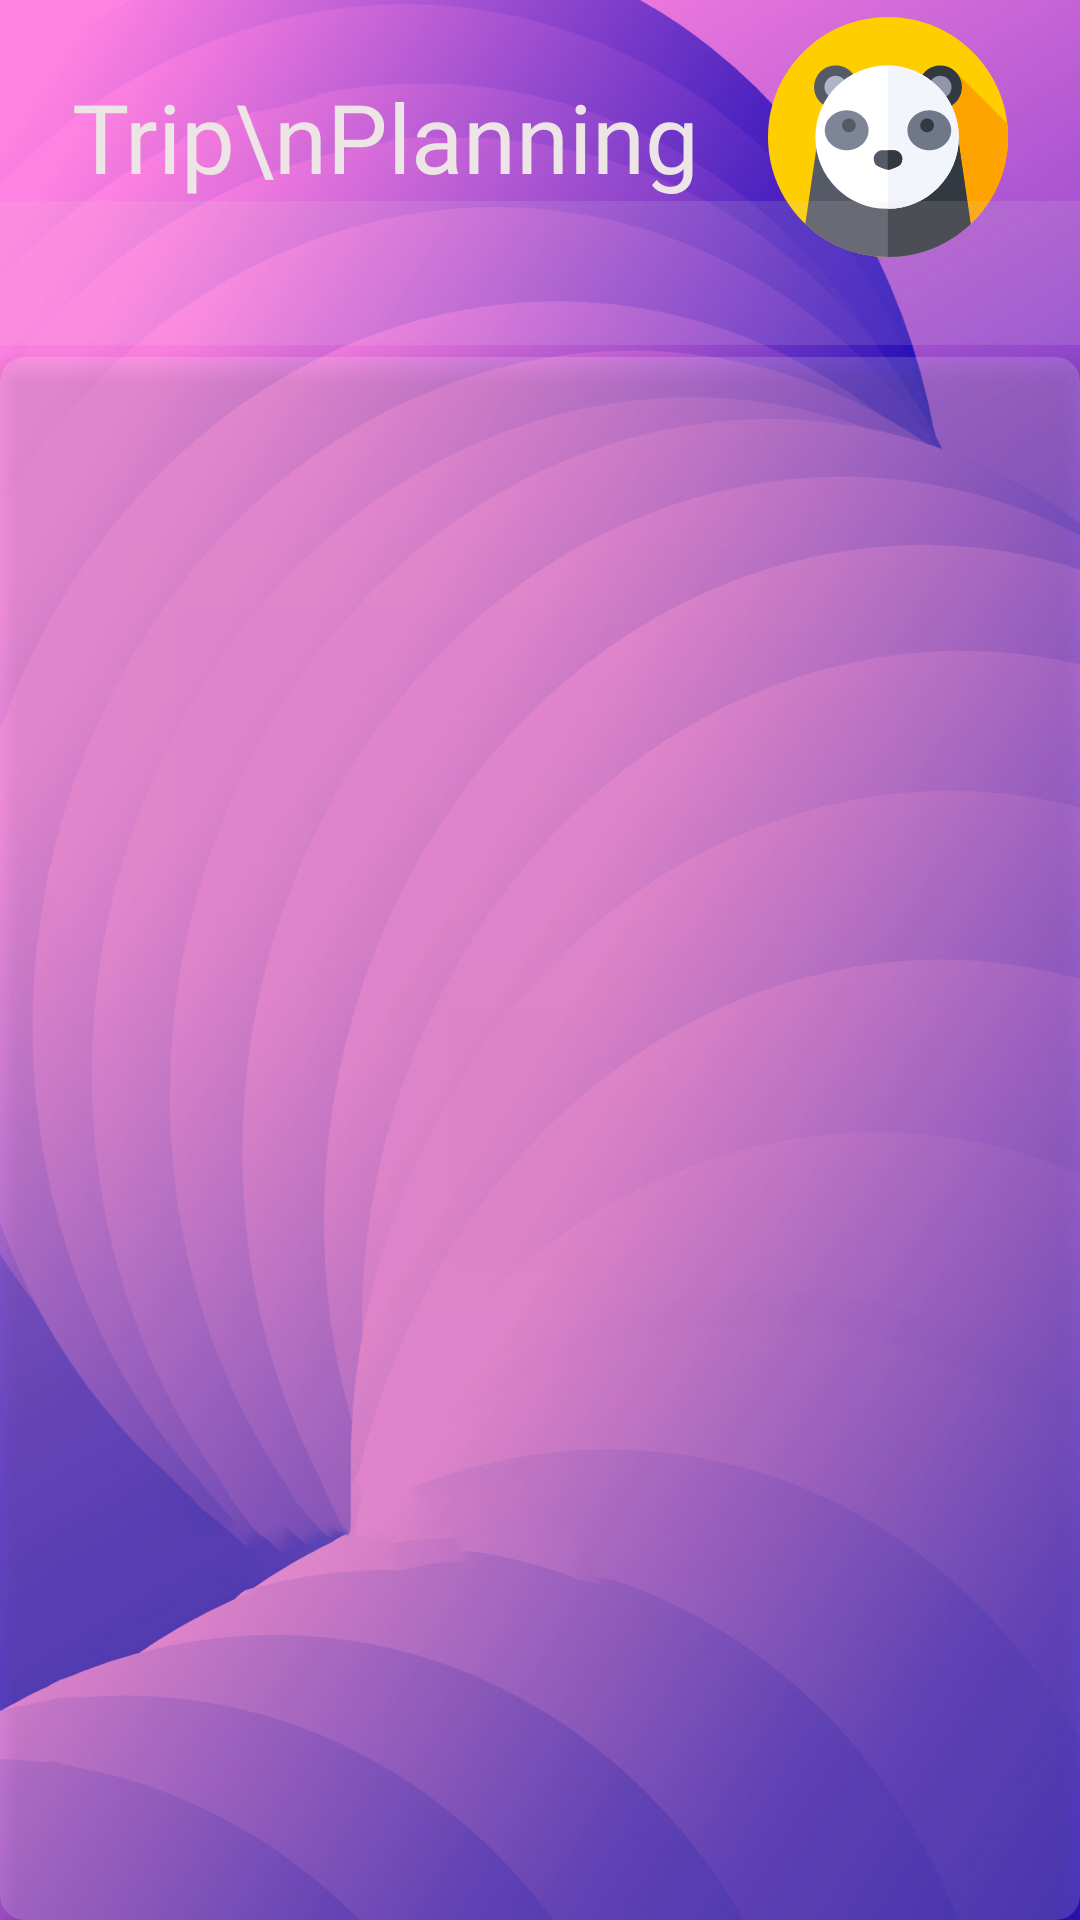

Screen size 1080 × 1920. Icon name, then its center in pixels as (x=x, y=y):
panda: (x=888, y=137)
